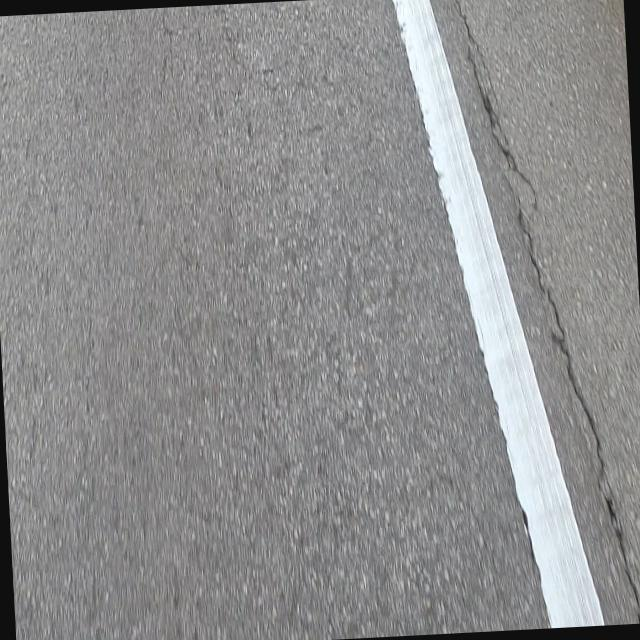Retak-Memanjang: (516, 200, 640, 624), (450, 0, 532, 201)
